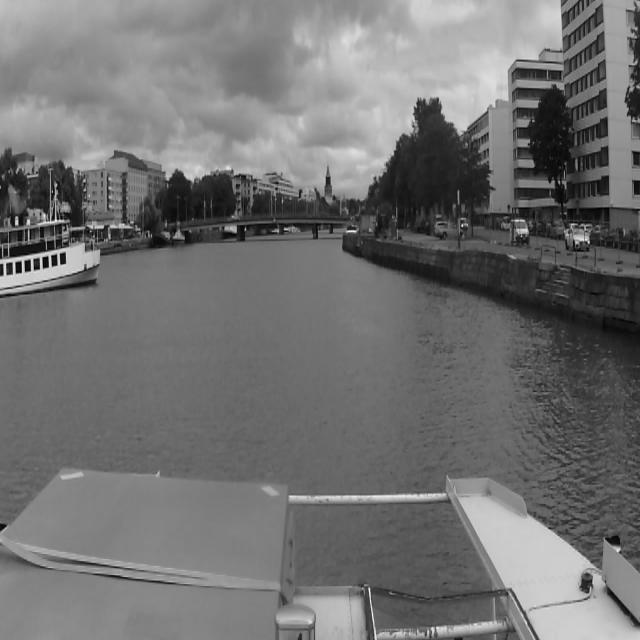ship: (2, 213, 98, 297), (156, 226, 170, 245), (173, 228, 185, 247)
